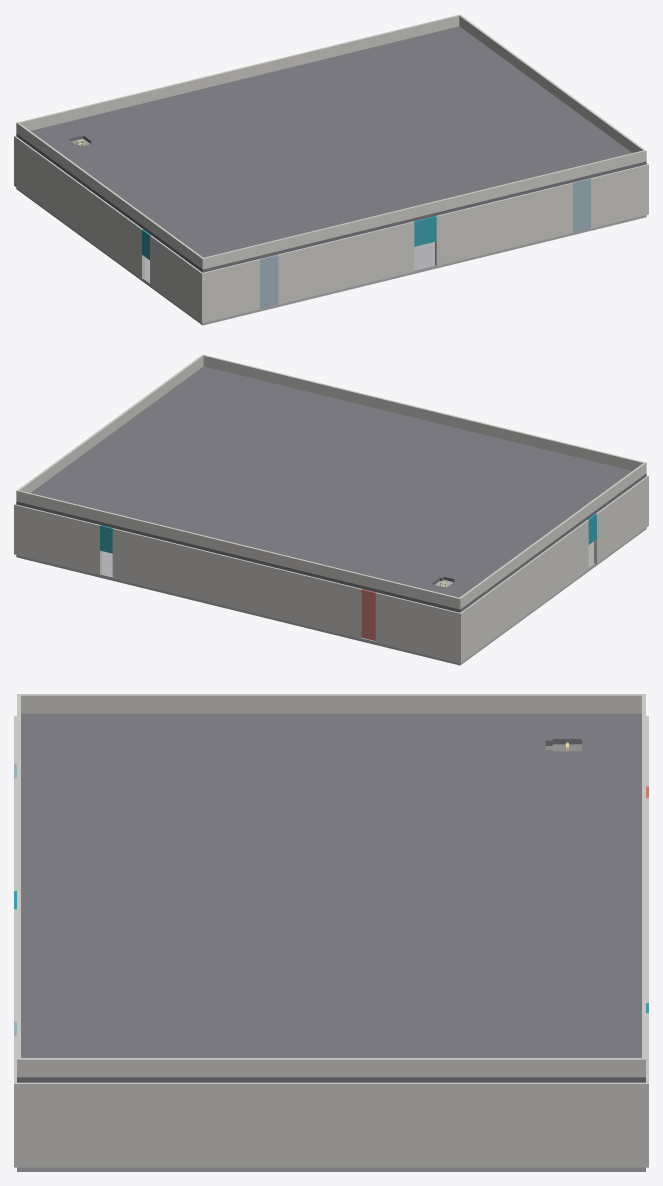
File: courthouse_a03.glb
The picture shows the model from 3 angles, top to bottom: view 1: azimuth 30°, elevation 25°; view 2: azimuth 150°, elevation 25°; view 3: azimuth 270°, elevation 25°; orthographic projection. The views are drawn at different scales.
Parts seen in each view (by area): view 1: slab_1_t1_2, slab_1_t1_7, slab_1_t3_3, slab_1_t4_7, slab_1_t5_4, slab_1_t1_3, slab_1_t2_5, slab_1_t2_6, slab_1_t3_2, slab_1_t4_1, slab_1_t4_6, slab_1_t1_1 (+106 smaller); view 2: slab_1_t5_2, slab_1_t1_4, slab_1_t2_7, slab_1_t3_3, slab_1_t5_7, slab_1_t2_1, slab_1_t2_6, slab_1_t3_2, slab_1_t4_5, slab_1_t4_6, slab_1_t5_3, slab_1_t1_3 (+104 smaller); view 3: slab_1_t1_3, slab_1_t1_6, slab_1_t2_3, slab_1_t2_6, slab_1_t4_3, slab_1_t4_6, slab_1_t5_3, slab_1_t5_6, slab_1_t3_3, slab_1_t3_6, slab_1_t1_2, slab_1_t1_4 (+81 smaller).
Part boxes in pixels (bbox=[...]): slab_1_t1_2: bbox=[248, 194, 323, 225]; slab_1_t1_7: bbox=[495, 134, 570, 165]; slab_1_t3_3: bbox=[244, 143, 319, 174]; slab_1_t4_7: bbox=[415, 76, 490, 107]; slab_1_t5_4: bbox=[240, 92, 315, 123]; slab_1_t1_3: bbox=[297, 182, 372, 213]; slab_1_t2_5: bbox=[370, 139, 444, 170]; slab_1_t2_6: bbox=[419, 127, 494, 158]; slab_1_t3_2: bbox=[195, 155, 270, 186]; slab_1_t4_1: bbox=[119, 148, 194, 179]; slab_1_t4_6: bbox=[366, 88, 440, 119]; slab_1_t1_1: bbox=[199, 206, 274, 237]; slab_1_t5_2: bbox=[339, 534, 414, 565]; slab_1_t1_4: bbox=[347, 432, 422, 463]; slab_1_t2_7: bbox=[172, 416, 247, 447]; slab_1_t3_3: bbox=[343, 483, 418, 514]; slab_1_t5_7: bbox=[92, 474, 167, 505]; slab_1_t2_1: bbox=[468, 488, 543, 519]; slab_1_t2_6: bbox=[222, 428, 296, 459]; slab_1_t3_2: bbox=[392, 495, 467, 526]; slab_1_t4_5: bbox=[218, 479, 292, 510]; slab_1_t4_6: bbox=[168, 467, 243, 498]; slab_1_t5_3: bbox=[290, 522, 365, 553]; slab_1_t1_3: bbox=[396, 444, 471, 475]; slab_1_t1_3: bbox=[106, 833, 196, 874]; slab_1_t1_6: bbox=[106, 955, 196, 996]; slab_1_t2_3: bbox=[196, 833, 286, 874]; slab_1_t2_6: bbox=[196, 955, 286, 996]; slab_1_t4_3: bbox=[376, 833, 466, 874]; slab_1_t4_6: bbox=[376, 955, 466, 996]; slab_1_t5_3: bbox=[466, 833, 556, 874]; slab_1_t5_6: bbox=[466, 955, 556, 996]; slab_1_t3_3: bbox=[286, 833, 376, 874]; slab_1_t3_6: bbox=[286, 955, 376, 996]; slab_1_t1_2: bbox=[106, 793, 196, 833]; slab_1_t1_4: bbox=[106, 874, 196, 914].
Size of what is drawn, in the model's own units: 44.3 by 6.3 by 32.3.
